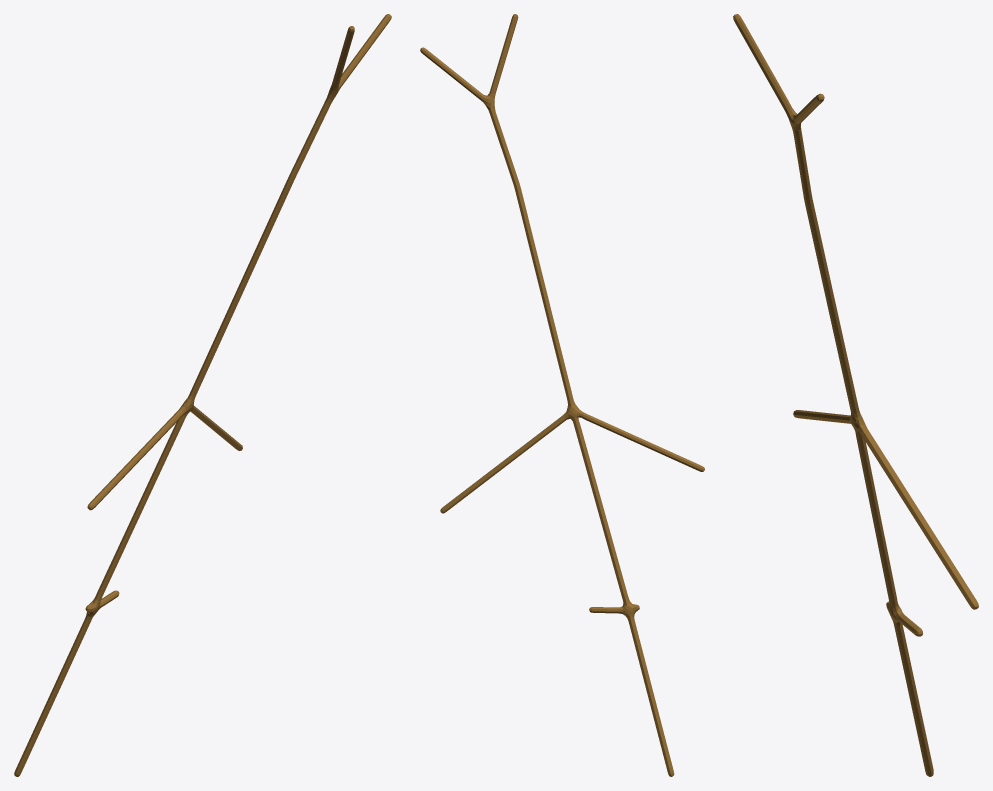
The model's file is Stick2.fbx.
3 views of the same model, side by side, from view 1: azimuth 30°, elevation 25°; view 2: azimuth 150°, elevation 25°; view 3: azimuth 270°, elevation 25° (orthographic). The views are drawn at different scales.
Parts seen in each view (by area): view 1: Vert.003; view 2: Vert.003; view 3: Vert.003.
Boxes of the visible parts, x1,y1,x2,y2 form: Vert.003: [14, 14, 391, 776]; Vert.003: [420, 14, 704, 776]; Vert.003: [733, 14, 978, 776].
Size of the model in its own units: 58.79 by 126 by 30.72.
